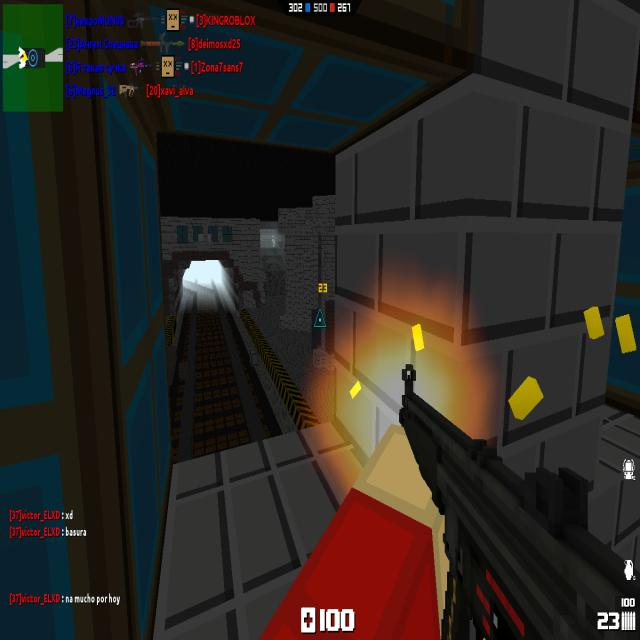enemy: (272, 235, 276, 249)
